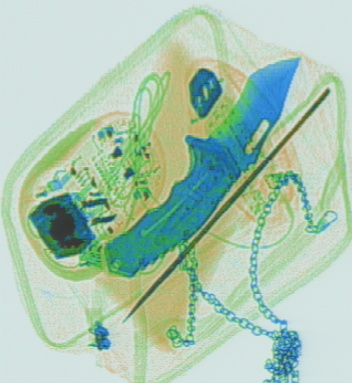knife: (120, 85, 330, 322), (103, 55, 301, 279)
